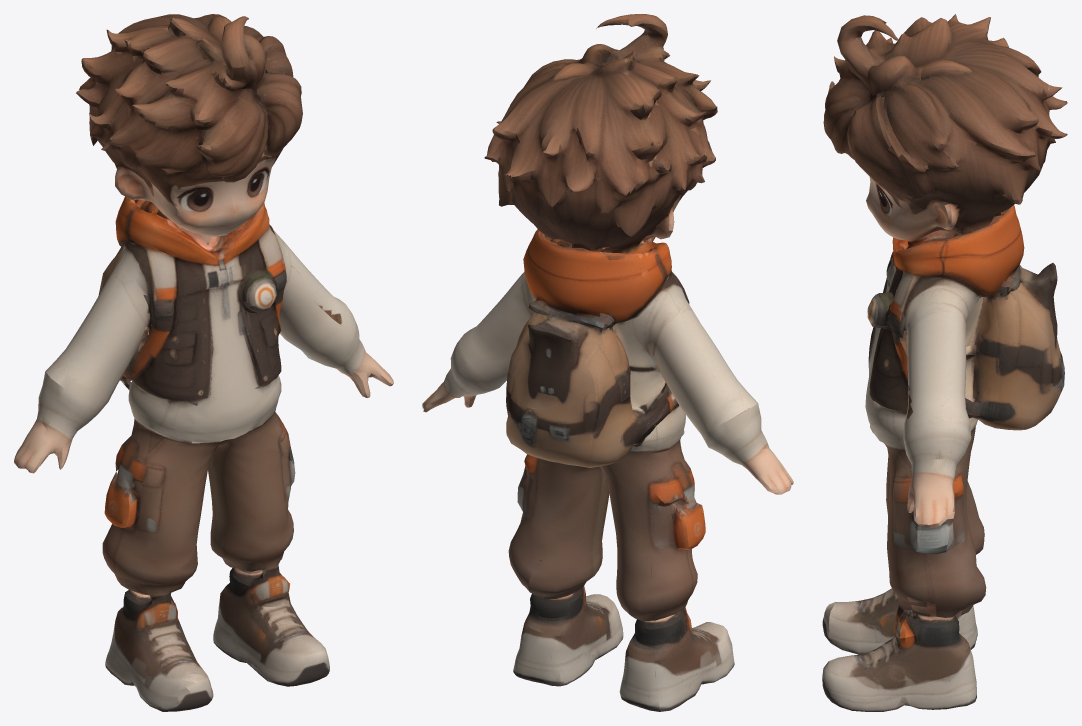
Rendered from autumn-explorer.glb.
3 renders of one model, left to right at view 1: azimuth 30°, elevation 25°; view 2: azimuth 150°, elevation 25°; view 3: azimuth 270°, elevation 25°, orthographic. The views are drawn at different scales.
Visible parts, largest first — view 1: Mesh0; view 2: Mesh0; view 3: Mesh0.
Part boxes in pixels (x1,y1,x2,y2): Mesh0: [14, 14, 393, 711]; Mesh0: [422, 14, 793, 711]; Mesh0: [822, 14, 1067, 711].
Size of the model in its own units: 1.18 by 2 by 0.6788.
1 material, 1 textured.
